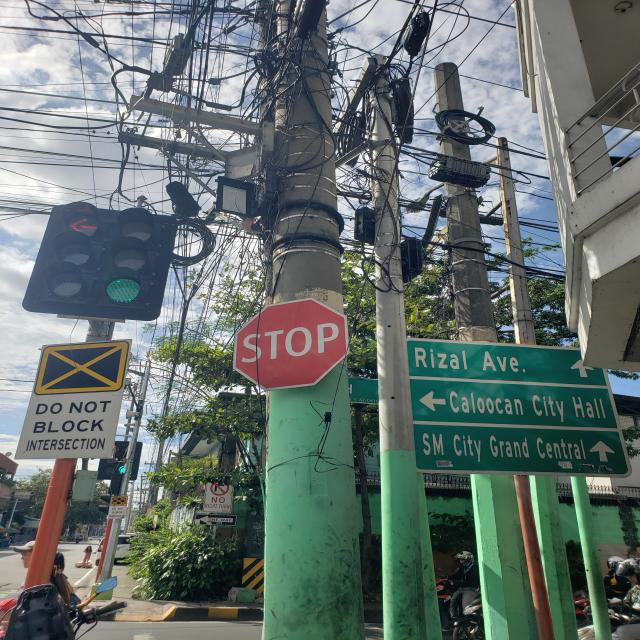stop-sign: (233, 297, 350, 391)
